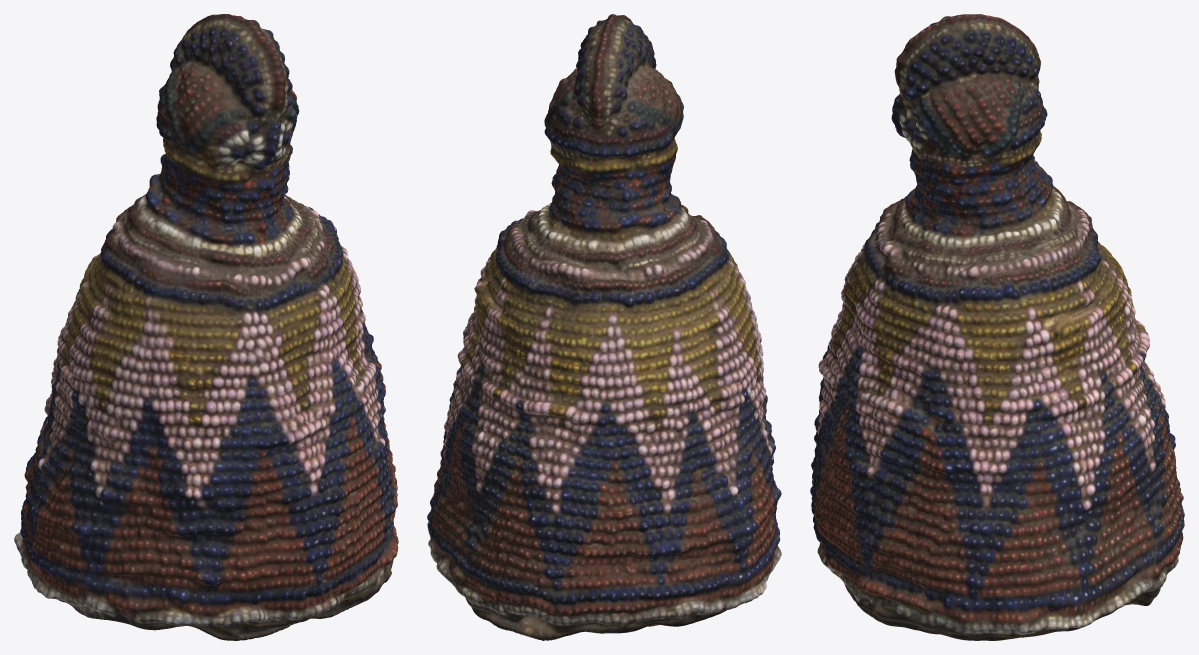
Rendered from preview.glb.
The picture shows the model from 3 angles, left to right: view 1: azimuth 30°, elevation 25°; view 2: azimuth 150°, elevation 25°; view 3: azimuth 270°, elevation 25°; orthographic projection. The views are drawn at different scales.
Visible parts, largest first — view 1: Object_2; view 2: Object_2; view 3: Object_2.
Part boxes in pixels (x1=…): Object_2: x1=14, y1=14, x2=398, y2=640; Object_2: x1=427, y1=14, x2=781, y2=640; Object_2: x1=810, y1=14, x2=1184, y2=640.
Size of the model in its own units: 72.6 by 123 by 71.4.
1 material, 1 textured.
